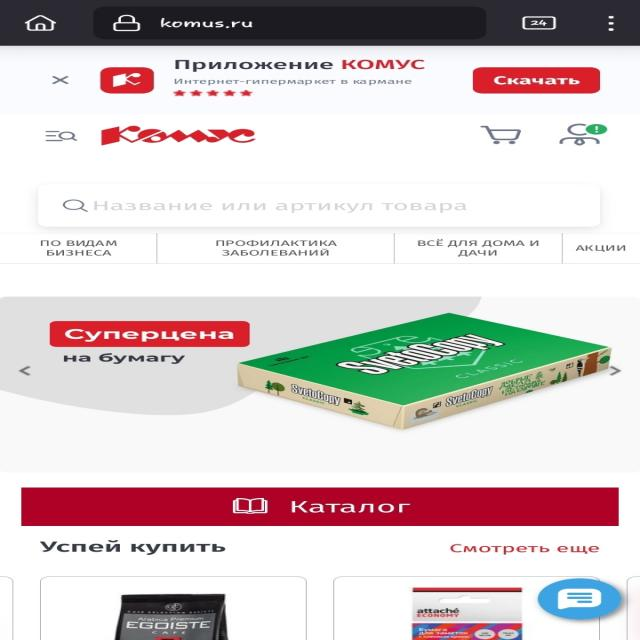button: (471, 66, 603, 95), (39, 70, 82, 89)
site: (0, 46, 640, 116)
